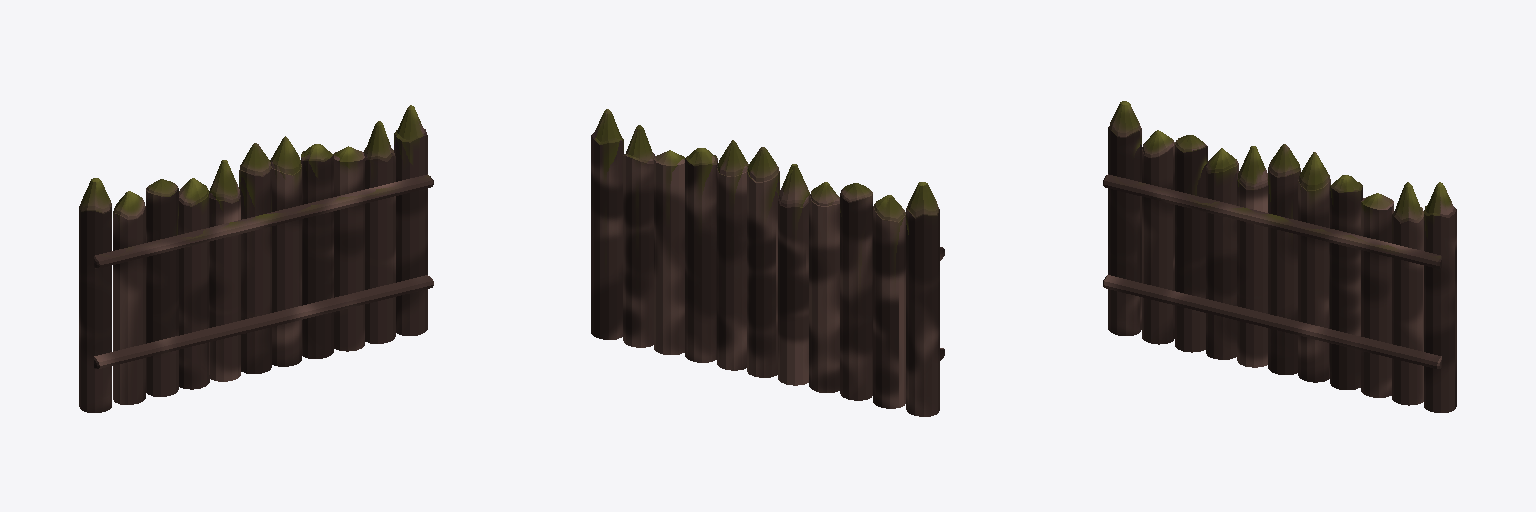
The picture shows the model from 3 angles: view 1: azimuth 30°, elevation 25°; view 2: azimuth 150°, elevation 25°; view 3: azimuth 330°, elevation 25°; orthographic projection.
Parts seen in each view (by area): view 1: Palisade2; view 2: Palisade2; view 3: Palisade2.
Part boxes in pixels (left/top/right/bottom): Palisade2: left=79, top=105, right=433, bottom=412; Palisade2: left=591, top=109, right=944, bottom=416; Palisade2: left=1103, top=101, right=1456, bottom=412.
Bounding box in the file's own units: 1.3 × 0.8261 × 0.1337.
Materials: 1 (1 with a texture image).